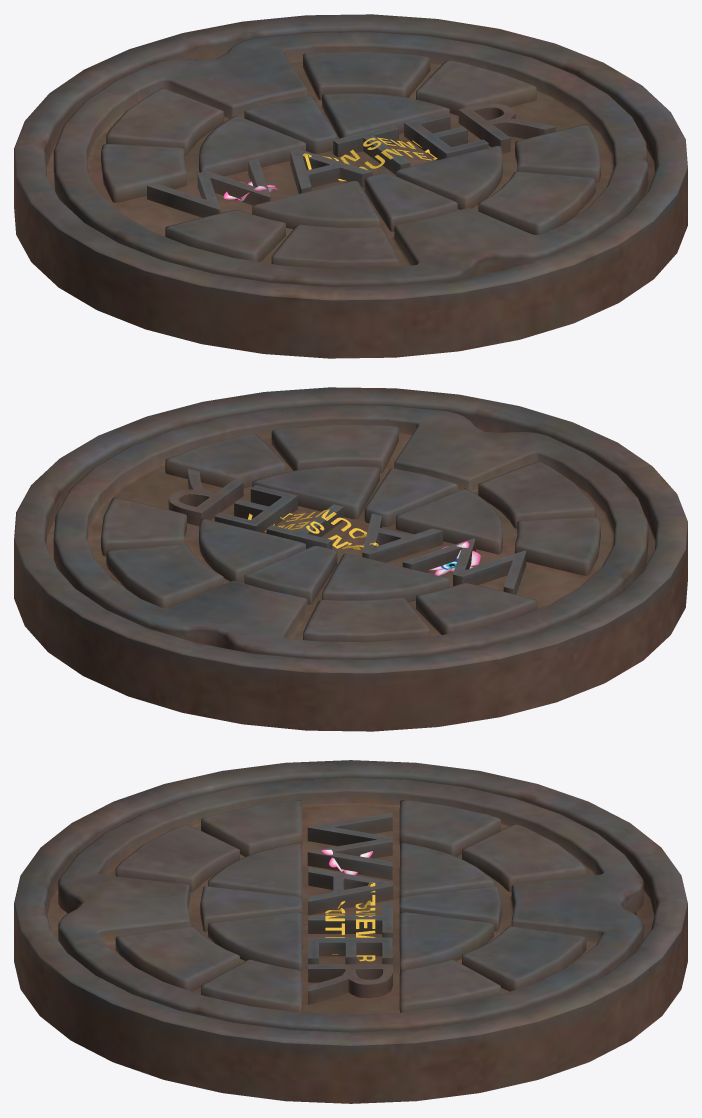
Rendered from nyb_chase_manhole.glb.
3 views of the same model, one above another, from view 1: azimuth 30°, elevation 25°; view 2: azimuth 150°, elevation 25°; view 3: azimuth 270°, elevation 25° (orthographic).
Parts seen in each view (by area): view 1: water_manhole_cover_frame, stk_lbl_cff157c13b.png; view 2: water_manhole_cover_frame, stk_lbl_cff157c13b.png; view 3: water_manhole_cover_frame, stk_lbl_cff157c13b.png.
Part boxes in pixels (x1,y1,x2,y2): water_manhole_cover_frame: [14, 14, 687, 358]; stk_lbl_cff157c13b.png: [223, 137, 437, 202]; water_manhole_cover_frame: [14, 387, 687, 731]; stk_lbl_cff157c13b.png: [248, 509, 480, 575]; water_manhole_cover_frame: [14, 760, 687, 1103]; stk_lbl_cff157c13b.png: [321, 849, 375, 961].
Bounding box in the file's own units: 0.6908 × 0.0701 × 0.6908.
Materials: 2 (2 with a texture image).
